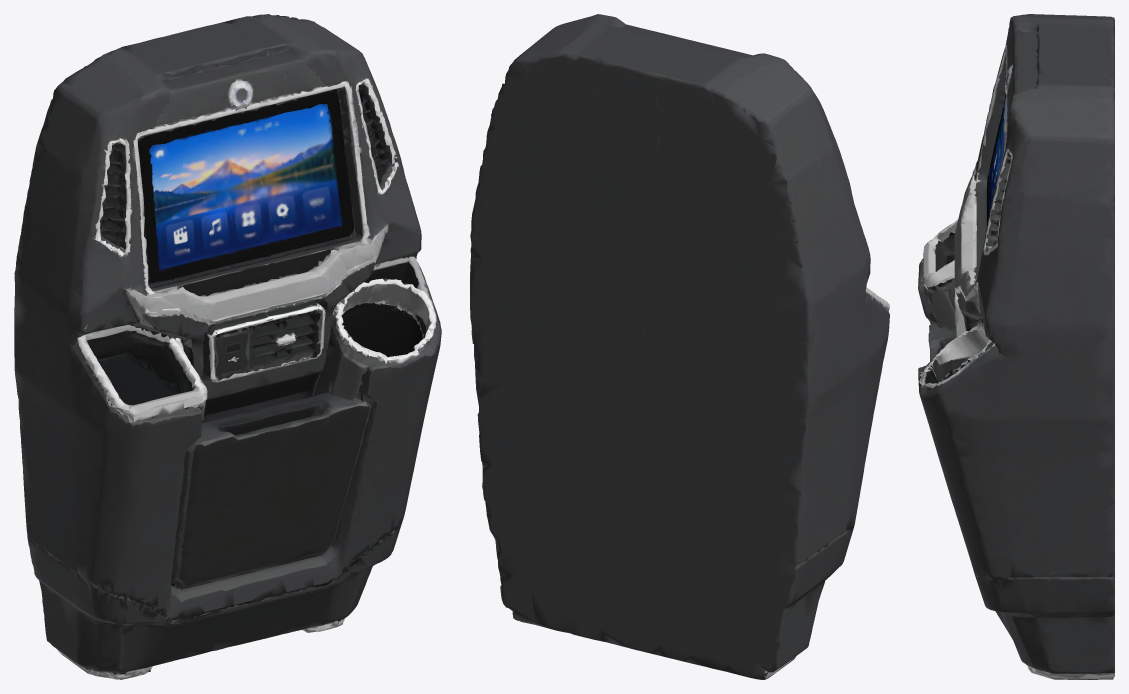
File: busseat.glb
3 renders of one model, left to right at view 1: azimuth 30°, elevation 25°; view 2: azimuth 150°, elevation 25°; view 3: azimuth 270°, elevation 25°, orthographic. The views are drawn at different scales.
Size of the model in its own units: 1.17 by 1.9 by 0.5995.
1 material, 1 textured.
